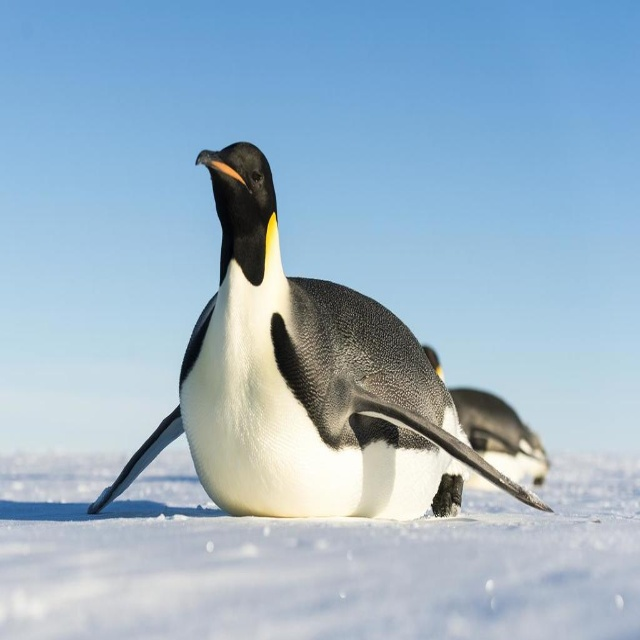Penguin: (92, 152, 557, 525), (419, 348, 547, 489)
